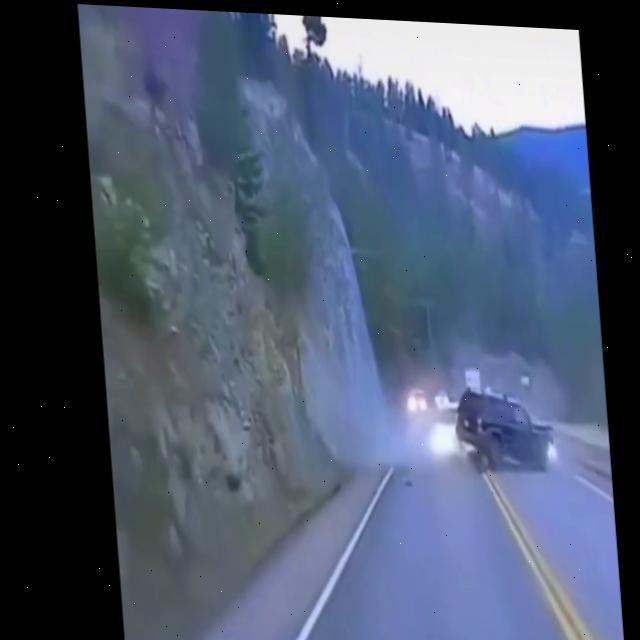multiple_accident: (319, 292, 572, 493)
